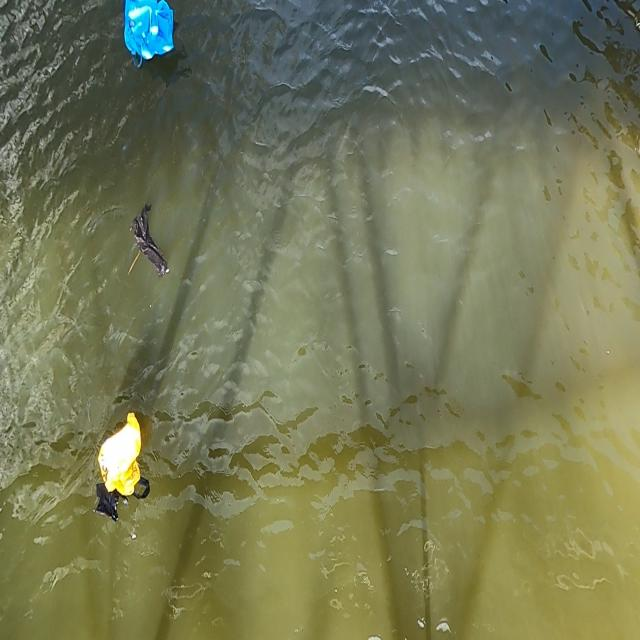Sac plastique: (85, 407, 152, 527), (118, 0, 183, 73), (126, 204, 173, 278)
